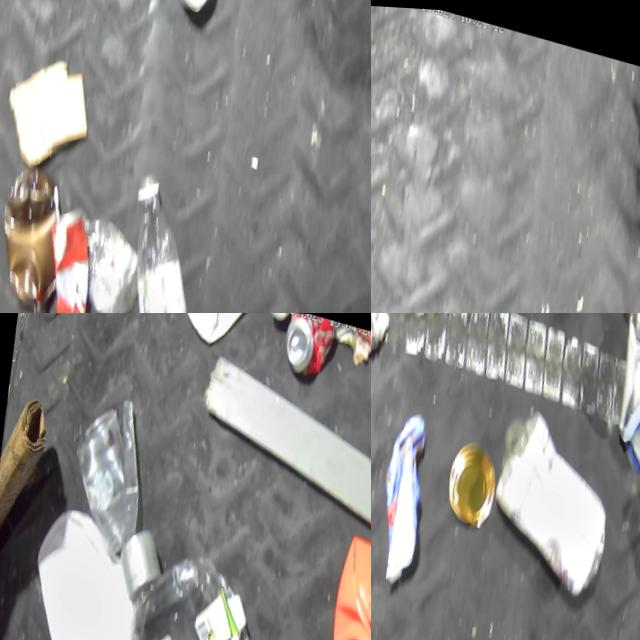can: (21, 196, 99, 313), (429, 431, 501, 526), (275, 313, 339, 378)
milk_jug: (0, 497, 156, 640), (172, 313, 268, 354)
non_white_jug: (371, 402, 442, 589), (295, 521, 371, 640)
plastic_bottle: (90, 160, 212, 313)
